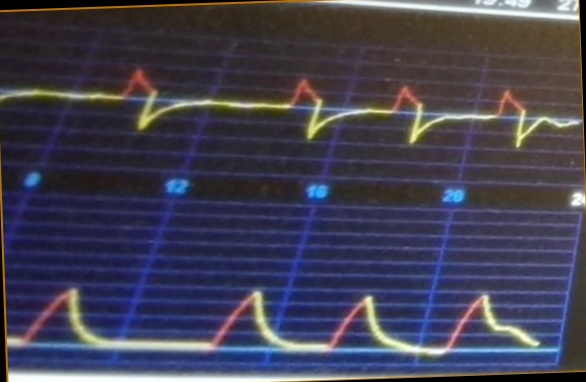Premature_cycling Flow: (1, 52, 582, 162)
Premature_cycling Volume: (8, 282, 541, 367)
